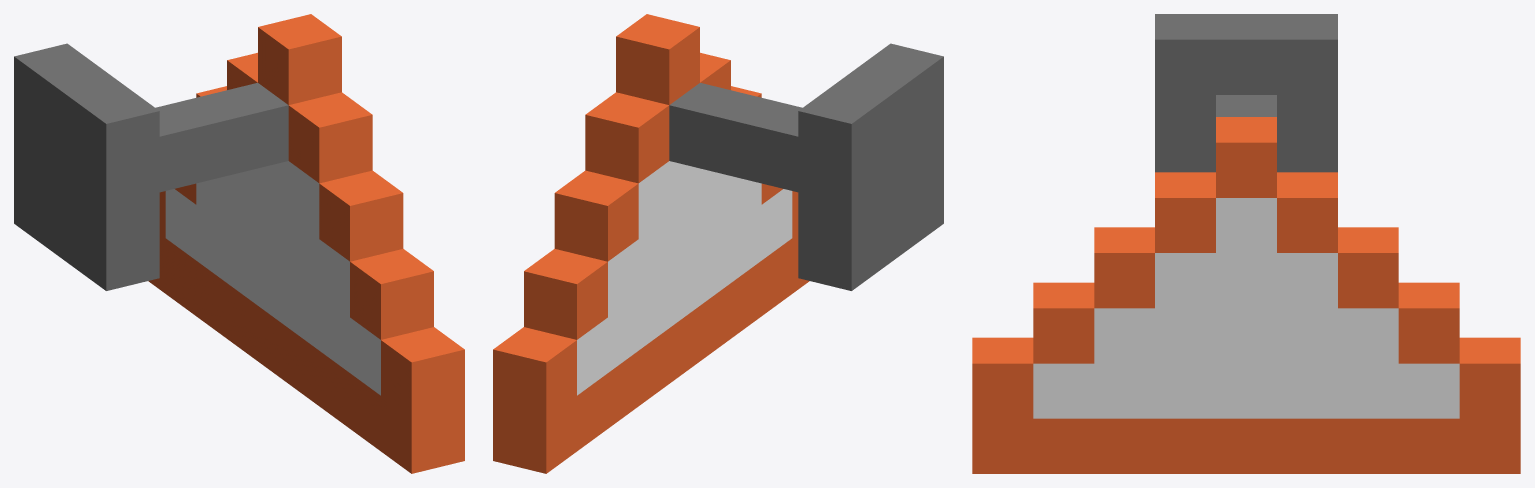
Rendered from All-1-Doroga_Zaval.obj.
3 renders of one model, left to right at view 1: azimuth 30°, elevation 25°; view 2: azimuth 150°, elevation 25°; view 3: azimuth 270°, elevation 25°, orthographic.
Visible parts, largest first — view 1: Doroga_Zaval; view 2: Doroga_Zaval; view 3: Doroga_Zaval.
Part boxes in pixels (<box>): Doroga_Zaval: <box>14,14,464,473</box>; Doroga_Zaval: <box>493,14,943,473</box>; Doroga_Zaval: <box>972,14,1520,473</box>.
Bounding box in the file's own units: 0.5 × 0.6 × 0.9.
1 material, 1 textured.
